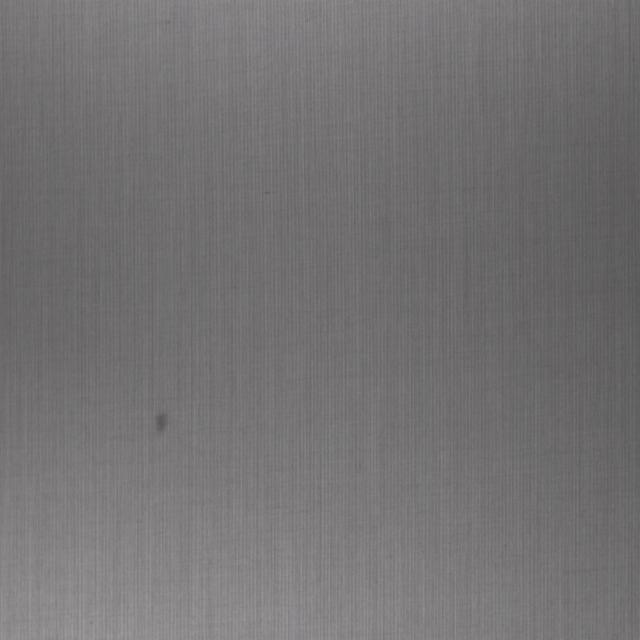dirty: (156, 411, 169, 436)
